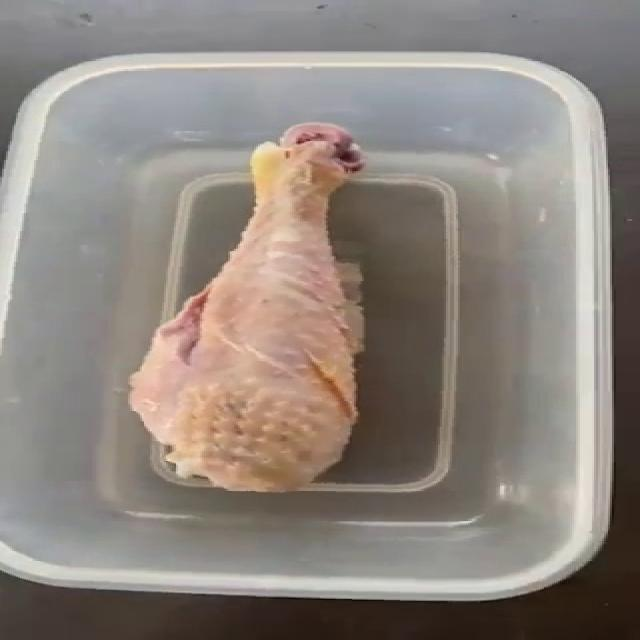chicken: (127, 120, 367, 493)
